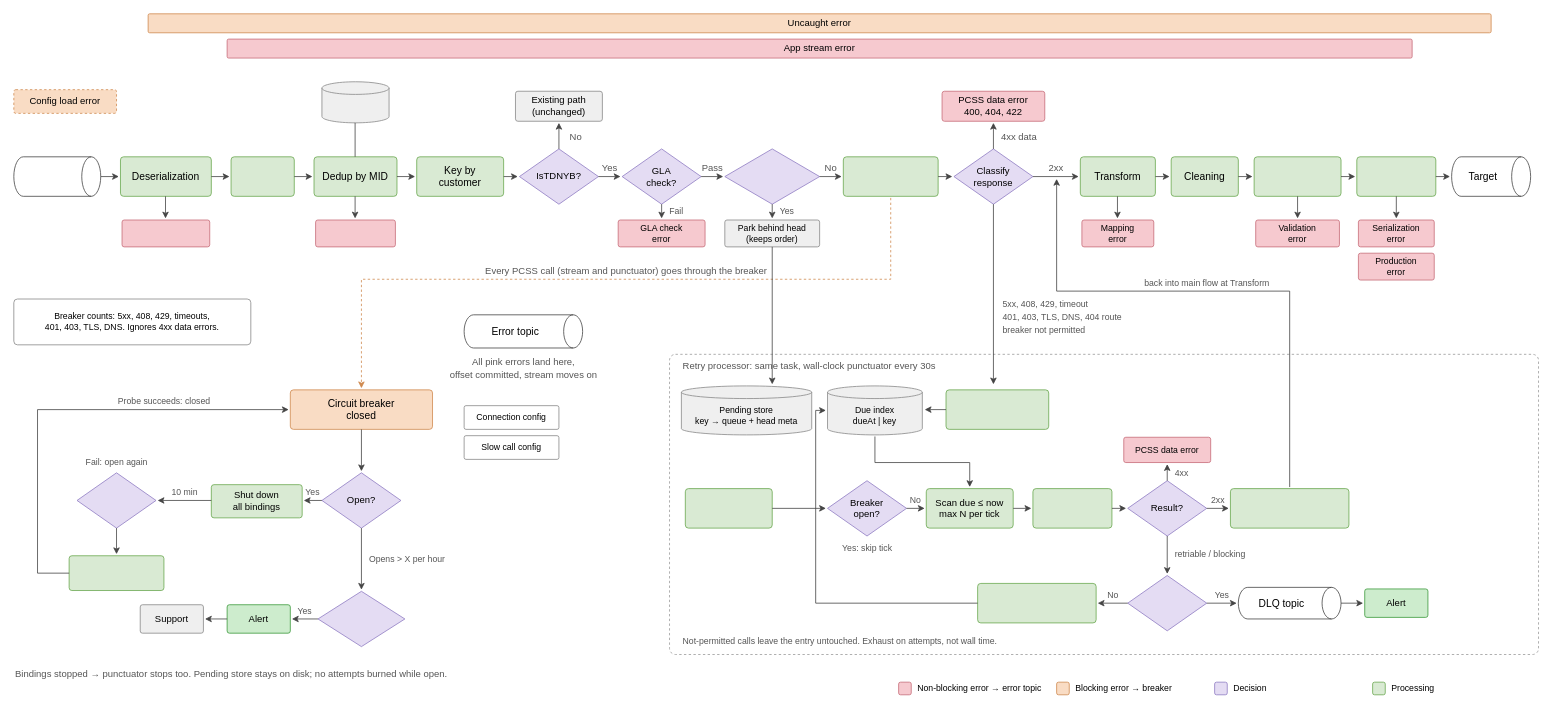
Some shapes in this 1552 by 709 pixel diagram are drawn without their labels. The shapes that lost their labels are listed below. From the top down, each one's centre as x and y in pixels, then its label:
the point at 355,102: Dedup store
the point at 57,176: Source
the point at 262,176: Filter
the point at 772,176: Pending for key?
the point at 890,176: PCSS REST call via breaker
the point at 1297,176: Business validation
the point at 1396,176: Serialization
the point at 165,233: Deserialization error
the point at 355,233: Duplicate error
the point at 997,409: Enqueue as head attempts = 0
the point at 116,500: Half open
the point at 728,508: Punctuator tick
the point at 1072,508: Call PCSS head only
the point at 1289,508: Forward head, pop next parked due now
the point at 116,573: Start bindings small N probe
the point at 361,619: Flaking?
the point at 1036,603: attempts + 1, backoff honour Retry-After
the point at 1167,603: Attempts ≥ max?
